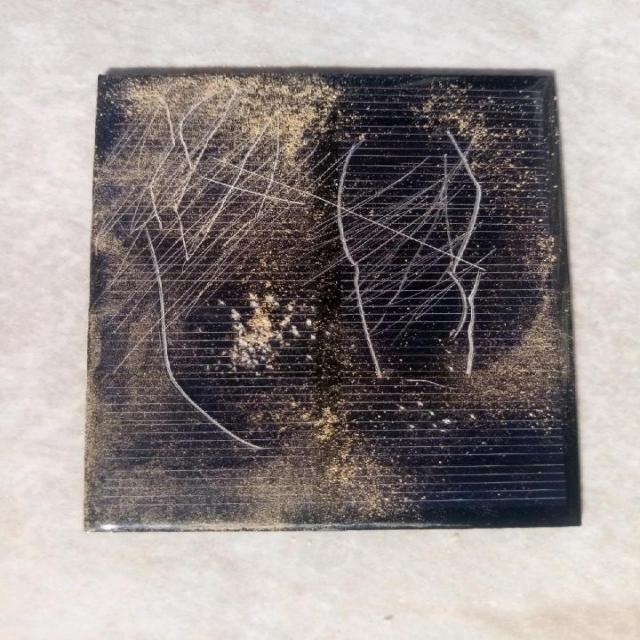faulty: (91, 75, 573, 523)
